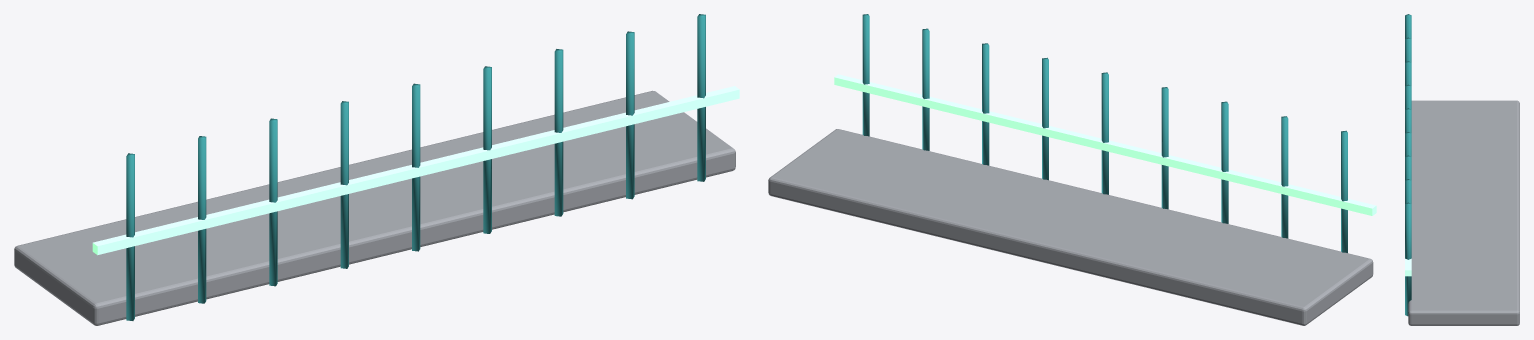
The model's file is wall_shelf_cargo_net.glb.
The picture shows the model from 3 angles, left to right: view 1: azimuth 30°, elevation 25°; view 2: azimuth 150°, elevation 25°; view 3: azimuth 270°, elevation 25°; orthographic projection. The views are drawn at different scales.
Visible parts, largest first — view 1: GD_wall_shelf_cargo_net__m0, GD_wall_shelf_cargo_net__m1, GD_wall_shelf_cargo_net__m2; view 2: GD_wall_shelf_cargo_net__m0, GD_wall_shelf_cargo_net__m1, GD_wall_shelf_cargo_net__m2; view 3: GD_wall_shelf_cargo_net__m0, GD_wall_shelf_cargo_net__m1, GD_wall_shelf_cargo_net__m2.
Boxes of the visible parts, <box> form: GD_wall_shelf_cargo_net__m0: <box>14,90,735,325</box>; GD_wall_shelf_cargo_net__m1: <box>126,14,705,320</box>; GD_wall_shelf_cargo_net__m2: <box>92,86,739,255</box>; GD_wall_shelf_cargo_net__m0: <box>768,129,1373,325</box>; GD_wall_shelf_cargo_net__m1: <box>862,14,1347,252</box>; GD_wall_shelf_cargo_net__m2: <box>834,74,1376,215</box>; GD_wall_shelf_cargo_net__m0: <box>1408,100,1519,325</box>; GD_wall_shelf_cargo_net__m1: <box>1405,14,1411,316</box>; GD_wall_shelf_cargo_net__m2: <box>1405,258,1411,276</box>.
Size of the model in its own units: 0.9 by 0.22 by 0.206.
